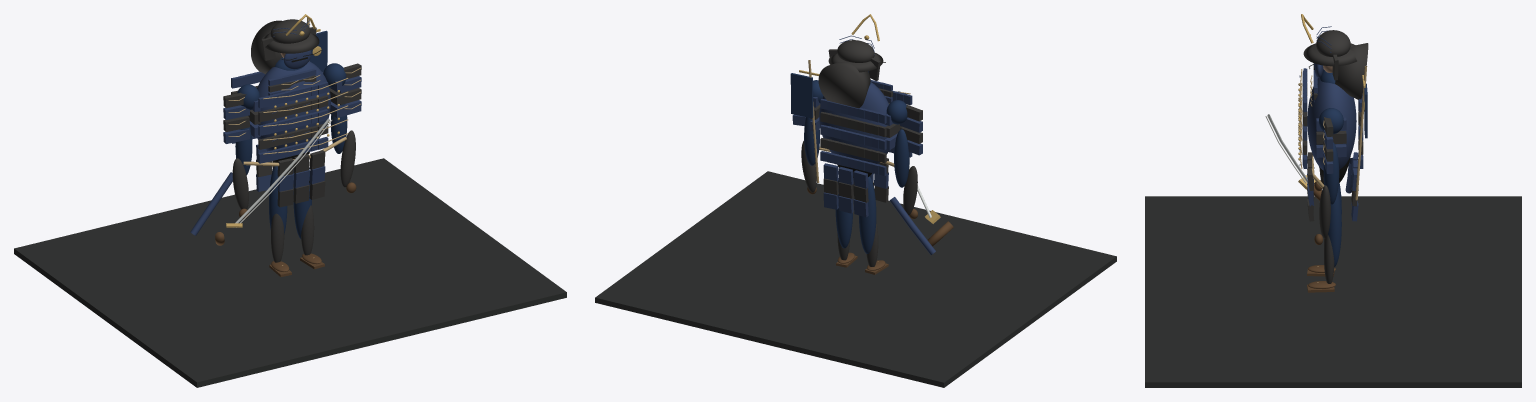
The model's file is actor-uesugi-03.glb.
The picture shows the model from 3 angles, left to right: view 1: azimuth 30°, elevation 25°; view 2: azimuth 150°, elevation 25°; view 3: azimuth 270°, elevation 25°; orthographic projection. The views are drawn at different scales.
Parts seen in each view (by area): view 1: matte charcoal inspection plinth, rounded do cuirass silhouette, rear shikoro neck guard flare, segmented kabuto helmet bowl, right kote forearm guard, left kote forearm guard, wide kabuto brim, left shin greave, left hakama trouser leg, lacquered saya scabbard at left hip, right shin greave, right armored upper arm; view 2: matte charcoal inspection plinth, rear shikoro neck guard flare, rounded do cuirass silhouette, cloth sashimono banner panel, left hakama trouser leg, left armored upper arm, segmented kabuto helmet bowl, right hakama trouser leg, left kote forearm guard, right armored upper arm, lacquered saya scabbard at left hip; view 3: matte charcoal inspection plinth, rounded do cuirass silhouette, rear shikoro neck guard flare, segmented kabuto helmet bowl, right hakama trouser leg, wide kabuto brim, right armored upper arm, right kote forearm guard, right shin greave, right shoulder undercloth, bamboo sashimono back pole.
Boxes of the visible parts, box(x1,y1,x2,y2) form: matte charcoal inspection plinth: box(14, 158, 566, 387); rounded do cuirass silhouette: box(257, 61, 330, 150); rear shikoro neck guard flare: box(251, 20, 282, 74); segmented kabuto helmet bowl: box(270, 19, 310, 43); right kote forearm guard: box(340, 130, 355, 187); left kote forearm guard: box(232, 158, 248, 209); wide kabuto brim: box(261, 33, 319, 53); left shin greave: box(271, 213, 284, 262); left hakama trouser leg: box(269, 166, 287, 234); lacquered saya scabbard at left hip: box(190, 172, 232, 235); right shin greave: box(301, 205, 314, 255); right armored upper arm: box(330, 104, 347, 153); matte charcoal inspection plinth: box(595, 171, 1116, 387); rear shikoro neck guard flare: box(818, 61, 870, 108); rounded do cuirass silhouette: box(819, 82, 888, 163); cloth sashimono banner panel: box(790, 73, 813, 118); left hakama trouser leg: box(859, 176, 876, 253); left armored upper arm: box(894, 129, 909, 187); segmented kabuto helmet bowl: box(837, 40, 874, 62); right hakama trouser leg: box(835, 180, 852, 248); left kote forearm guard: box(903, 166, 917, 215); right armored upper arm: box(804, 117, 819, 165); lacquered saya scabbard at left hip: box(889, 197, 935, 254); matte charcoal inspection plinth: box(1145, 196, 1521, 387); rounded do cuirass silhouette: box(1307, 78, 1356, 170); rear shikoro neck guard flare: box(1335, 43, 1368, 99); segmented kabuto helmet bowl: box(1316, 30, 1350, 56); right hakama trouser leg: box(1328, 189, 1341, 267); wide kabuto brim: box(1303, 43, 1356, 66); right armored upper arm: box(1323, 142, 1339, 204); right kote forearm guard: box(1319, 185, 1330, 238); right shin greave: box(1324, 235, 1334, 283); right shoulder undercloth: box(1319, 108, 1343, 134); bamboo sashimono back pole: box(1355, 66, 1367, 200).
Size of the model in its own units: 4.2 by 2.96 by 3.6.
